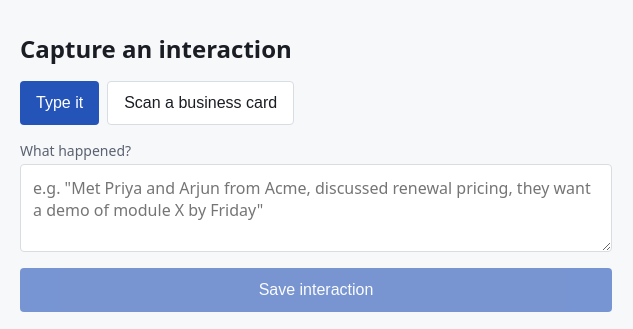
CapturePage › shows a retryable error, not a silently-empty picker, when loading accounts fails
Type "met with someone, no company named" into the text box labelled "What happened?". click: (316, 208)
box: [20,164,612,252]
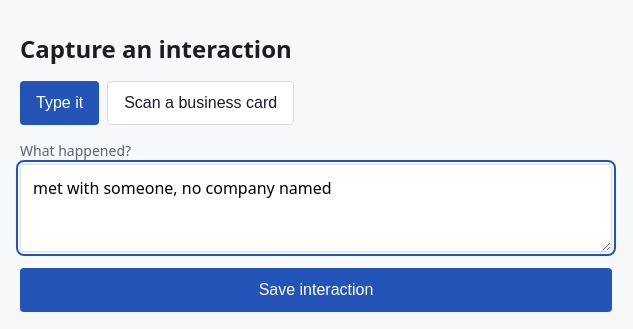
Click the button "Save interaction". click: click(316, 290)
box: [20,268,612,312]
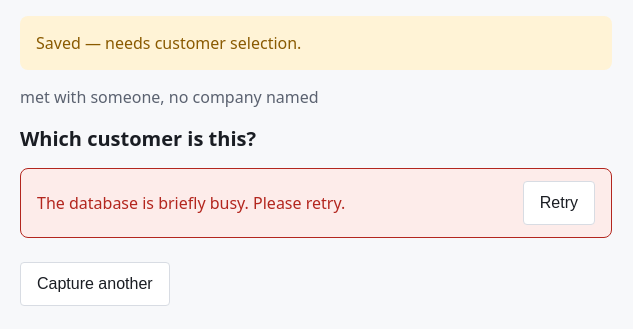
Check: the text "The database is briefly busy. Please retry." is shown, box [37,192,345,214]
